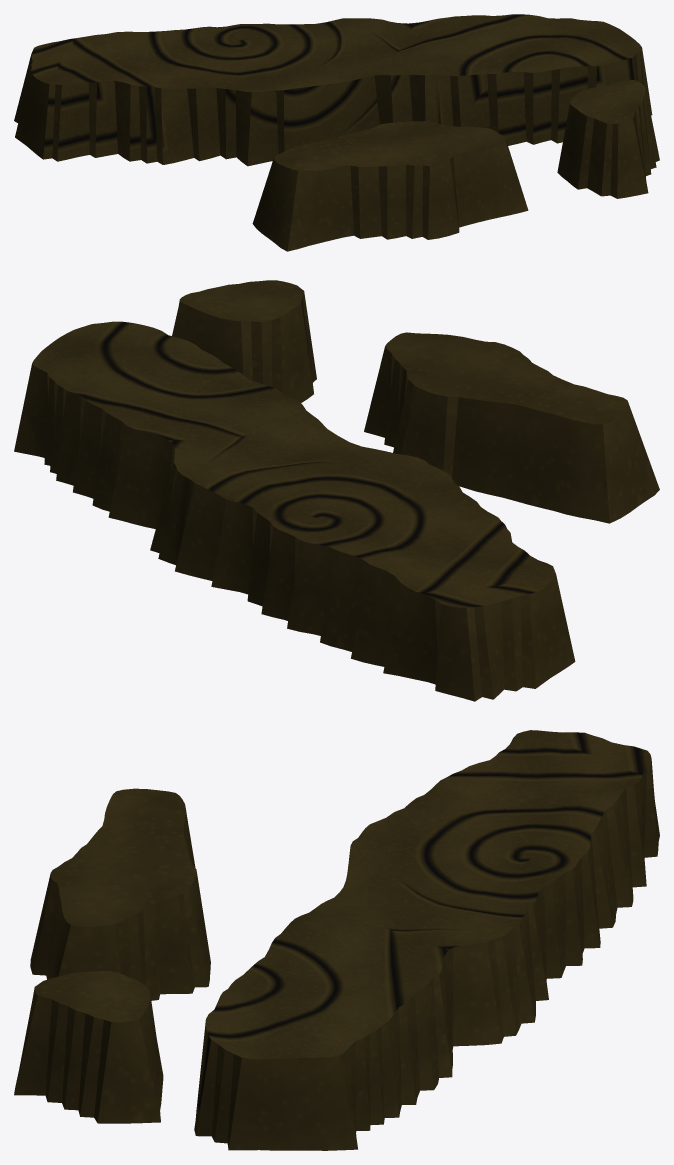
Rendered from CREHenge07.glb.
3 views of the same model, one above another, from view 1: azimuth 30°, elevation 25°; view 2: azimuth 150°, elevation 25°; view 3: azimuth 270°, elevation 25° (orthographic). The views are drawn at different scales.
Visible parts, largest first — view 1: CREHenge07_tops; view 2: CREHenge07_tops; view 3: CREHenge07_tops.
Part boxes in pixels (x1,y1,x2,y2): CREHenge07_tops: (14, 14, 659, 251); CREHenge07_tops: (14, 280, 659, 701); CREHenge07_tops: (14, 730, 659, 1150).
Size of the model in its own units: 3.05 by 0.423 by 2.5.
2 materials, 2 textured.
